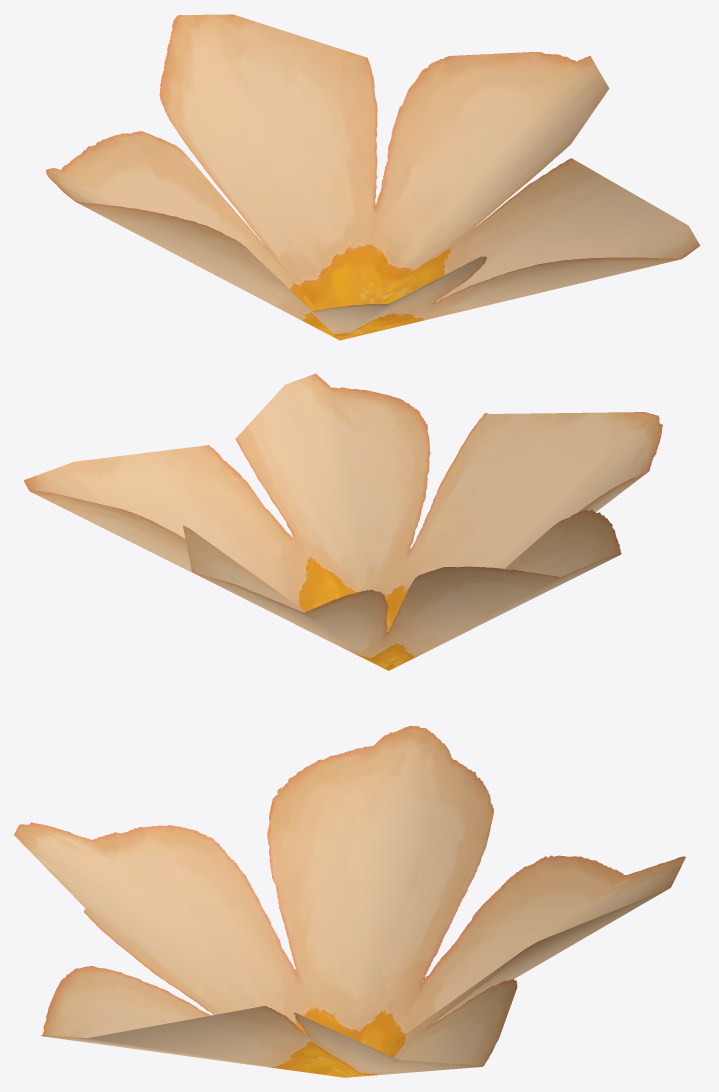
Rendered from Petal_2.gltf.
The picture shows the model from 3 angles, top to bottom: view 1: azimuth 30°, elevation 25°; view 2: azimuth 150°, elevation 25°; view 3: azimuth 270°, elevation 25°; orthographic projection. The views are drawn at different scales.
Parts seen in each view (by area): view 1: Petal_2; view 2: Petal_2; view 3: Petal_2.
Part boxes in pixels (<box>): Petal_2: <box>45,14,700,340</box>; Petal_2: <box>24,373,662,670</box>; Petal_2: <box>14,725,685,1077</box>.
Size of the model in its own units: 0.6732 by 0.2361 by 0.6311.
1 material, 1 textured.
